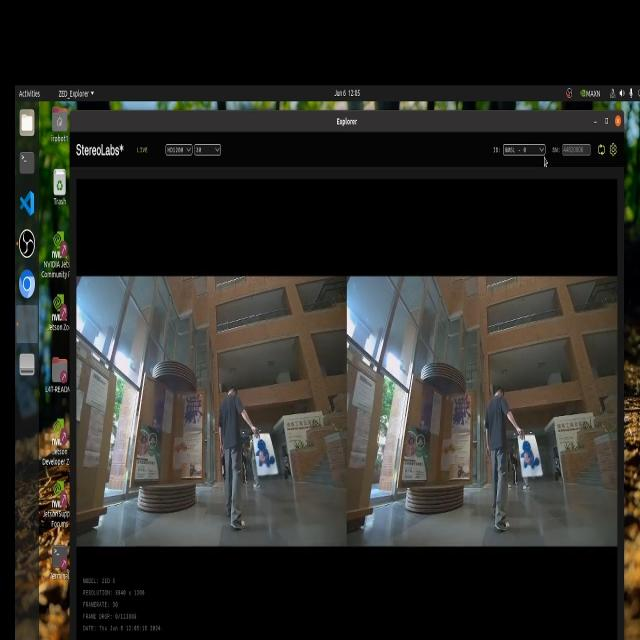blue: (256, 440, 286, 468), (516, 439, 540, 471)
